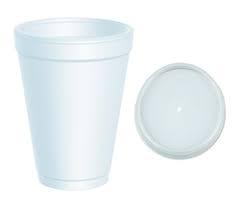Plastic cup: (10, 6, 240, 205)
